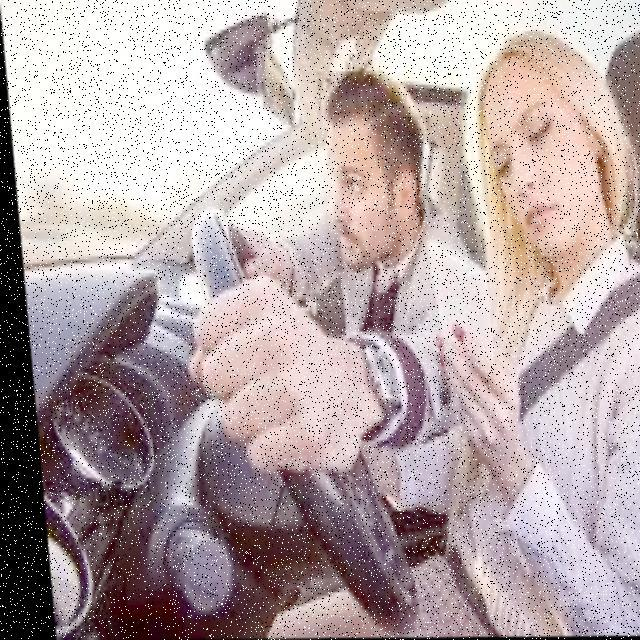seatbelt: (449, 208, 640, 596)
